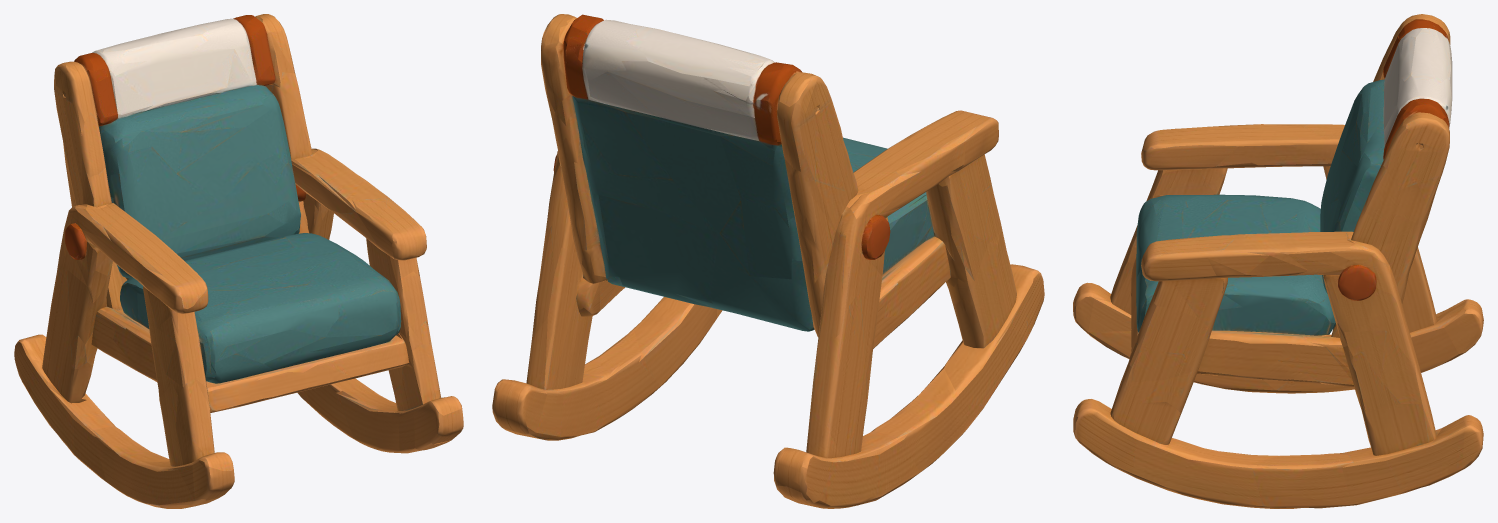
The model's file is rockingChair.glb.
3 renders of one model, left to right at view 1: azimuth 30°, elevation 25°; view 2: azimuth 150°, elevation 25°; view 3: azimuth 270°, elevation 25°, orthographic. The views are drawn at different scales.
Visible parts, largest first — view 1: Mesh_0; view 2: Mesh_0; view 3: Mesh_0.
Part boxes in pixels (x1,y1,x2,y2): Mesh_0: (14, 14, 463, 508); Mesh_0: (492, 14, 1044, 508); Mesh_0: (1073, 14, 1483, 508).
Size of the model in its own units: 0.6084 by 0.8318 by 0.8.
Materials: 1 (1 with a texture image).
